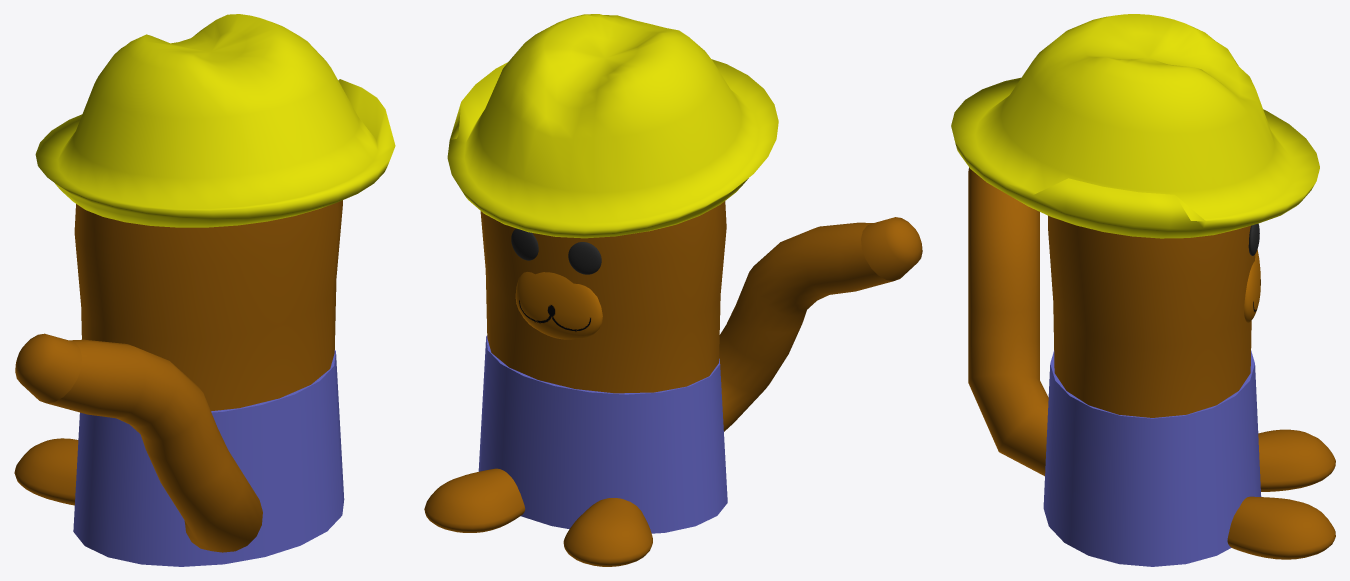
The model's file is Farm.FBX.
3 renders of one model, left to right at view 1: azimuth 30°, elevation 25°; view 2: azimuth 150°, elevation 25°; view 3: azimuth 270°, elevation 25°, orthographic. The views are drawn at different scales.
Parts seen in each view (by area): view 1: Sphere007, Cylinder001, Cylinder003, Cylinder002, Sphere002; view 2: Sphere007, Cylinder003, Cylinder001, Cylinder002, Sphere001, Sphere002, Sphere006, Sphere005, Sphere003; view 3: Sphere007, Cylinder001, Cylinder003, Cylinder002, Sphere001, Sphere002, Sphere006.
Part boxes in pixels (x1,y1,x2,y2): Sphere007: (35,14,395,227); Cylinder001: (74,200,342,411); Cylinder003: (73,350,344,566); Cylinder002: (15,333,262,552); Sphere002: (14,438,78,505); Sphere007: (447,14,778,238); Cylinder003: (478,335,727,533); Cylinder001: (480,201,726,393); Cylinder002: (719,217,922,431); Sphere001: (424,468,525,532); Sphere002: (563,498,652,566); Sphere006: (515,272,602,339); Sphere005: (568,242,601,274); Sphere003: (511,228,538,260); Sphere007: (951,14,1319,238); Cylinder001: (1048,215,1255,417); Cylinder003: (1043,350,1261,566); Cylinder002: (968,167,1048,476); Sphere001: (1227,496,1335,559); Sphere002: (1258,429,1335,491); Sphere006: (1244,249,1260,322).
Size of the model in its own units: 60.04 by 69.09 by 50.27.
Materials: 9 (9 with a texture image).
